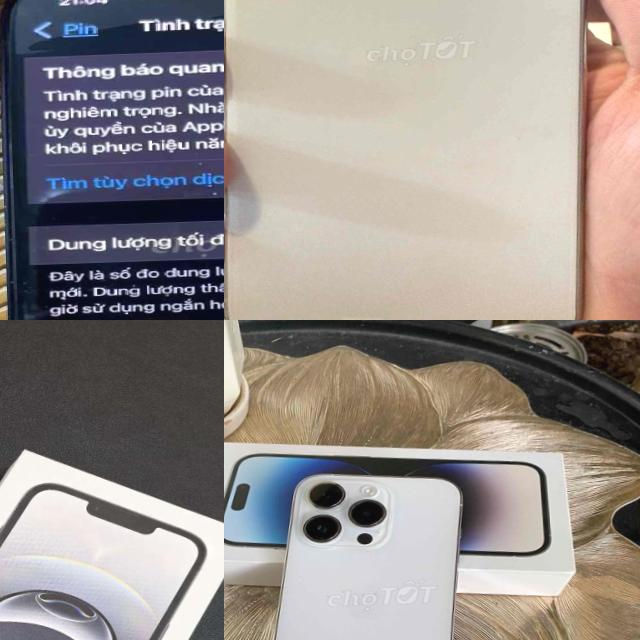gen_11: (224, 0, 620, 320)
gen_12_13: (0, 0, 224, 320)
gen_14: (260, 466, 468, 640)
